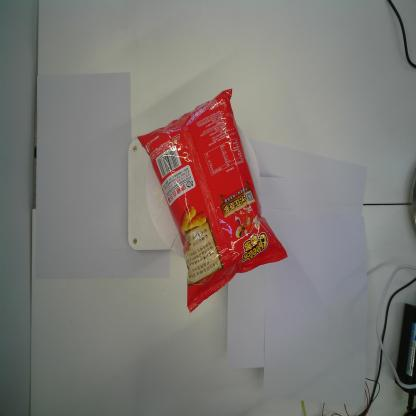Puffed Food: (137, 87, 289, 316)
